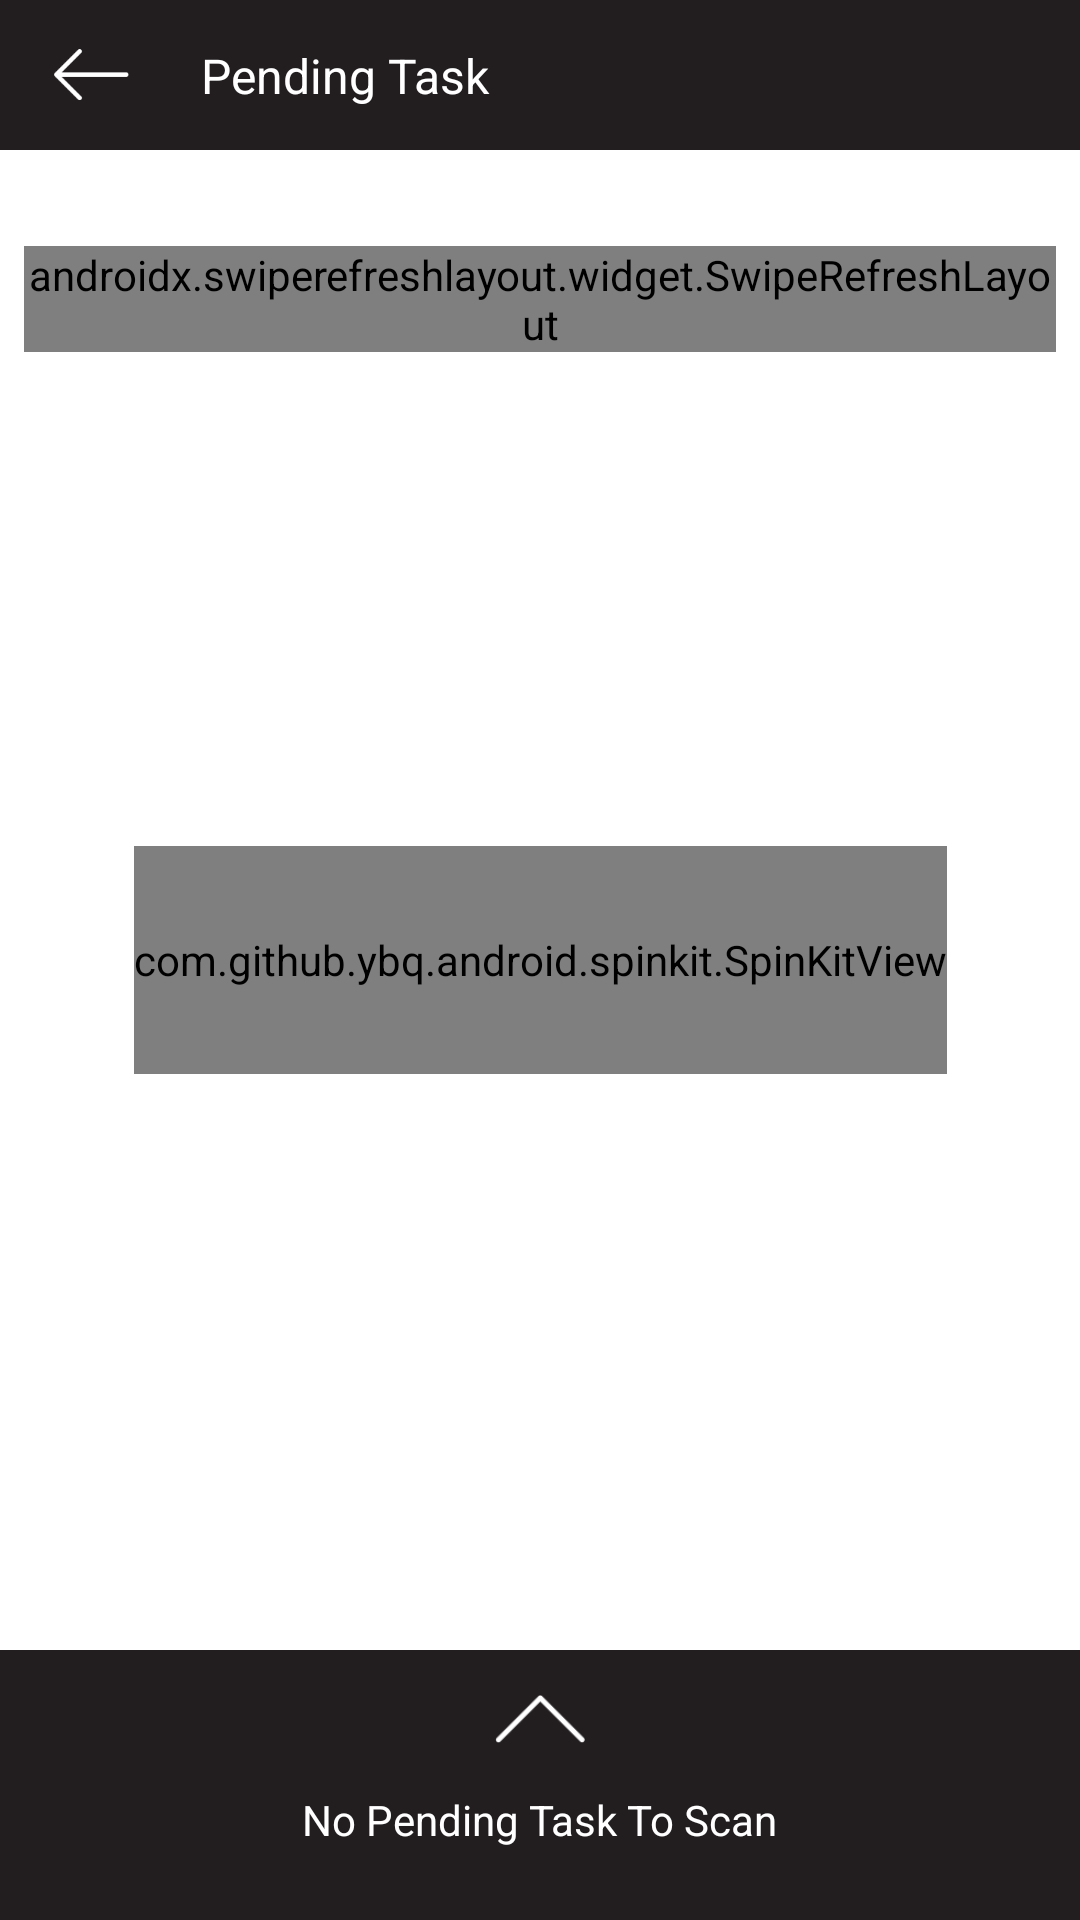

Screen size 1080 × 1920. Icon name, then its box in pixels as {"x1": x1, "y1": y1, "x2": x2, "y2": y2}:
back: {"x1": 54, "y1": 49, "x2": 129, "y2": 100}
up arrow: {"x1": 496, "y1": 1695, "x2": 585, "y2": 1743}
